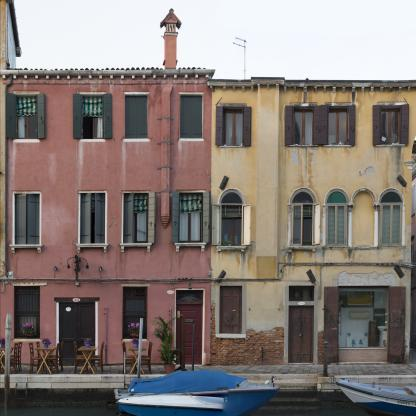Blind: (387, 286, 406, 362), (324, 287, 338, 363), (220, 286, 242, 334), (180, 94, 203, 139), (125, 94, 148, 139), (326, 204, 346, 246), (381, 204, 401, 245), (28, 194, 40, 244), (15, 194, 27, 244), (81, 193, 92, 244), (146, 192, 157, 243), (124, 193, 135, 244), (201, 191, 211, 243), (6, 92, 17, 139), (95, 193, 105, 244), (72, 93, 83, 139), (292, 204, 303, 246), (102, 93, 112, 139), (36, 93, 46, 139), (242, 203, 252, 246), (211, 203, 221, 246), (400, 104, 410, 145), (312, 203, 321, 246), (321, 104, 330, 145), (172, 191, 179, 243), (216, 106, 225, 146), (285, 105, 294, 145), (313, 105, 322, 145), (372, 105, 381, 145), (242, 107, 251, 146), (347, 106, 356, 145)
Building Outline: (0, 8, 416, 366)
Cornice: (54, 297, 100, 302), (10, 282, 47, 286), (377, 101, 405, 106), (219, 102, 247, 107), (79, 91, 107, 95), (290, 102, 318, 106), (325, 102, 353, 106), (13, 91, 40, 95), (121, 283, 151, 286), (123, 91, 150, 94), (178, 91, 204, 94)
Door: (59, 302, 95, 366), (176, 304, 203, 365), (289, 306, 313, 363)
Facade: (7, 86, 412, 365)
Floor Slab: (0, 158, 412, 167), (0, 262, 412, 271)
Ground Floor: (0, 167, 412, 271), (0, 271, 412, 365)
Molding: (210, 84, 410, 93), (2, 74, 210, 80)
Pillar: (256, 85, 280, 279), (373, 203, 381, 247), (346, 203, 354, 247)
Shop: (338, 287, 387, 347)
Sill: (321, 245, 405, 250), (9, 244, 43, 254), (75, 243, 108, 253), (119, 243, 152, 253), (174, 242, 207, 252), (215, 246, 247, 253), (287, 246, 317, 253), (12, 138, 40, 143), (11, 338, 43, 342), (122, 138, 150, 142), (374, 144, 406, 147), (323, 145, 352, 148), (79, 139, 107, 142), (121, 339, 148, 342), (219, 145, 246, 148), (179, 139, 204, 142), (287, 145, 319, 147)
Top Floor: (0, 74, 211, 167), (211, 86, 415, 167)
Window: (14, 286, 40, 339), (15, 194, 40, 245), (179, 192, 204, 243), (123, 286, 147, 339), (80, 193, 105, 243), (124, 193, 148, 243), (220, 286, 242, 334), (180, 94, 203, 139), (125, 94, 148, 139), (81, 94, 104, 139), (15, 95, 38, 139), (292, 204, 314, 246), (379, 105, 402, 145), (221, 205, 243, 246), (292, 106, 314, 145), (327, 106, 349, 145), (326, 204, 346, 246), (223, 106, 244, 146), (381, 204, 401, 245), (176, 290, 203, 304), (289, 286, 314, 301), (381, 191, 402, 203), (221, 192, 243, 203), (292, 192, 314, 203), (327, 191, 347, 203)
dont: (149, 316, 182, 375), (29, 338, 64, 375), (122, 337, 153, 375), (74, 338, 105, 375), (0, 338, 23, 375), (4, 313, 12, 388), (137, 318, 143, 379), (192, 323, 195, 371)
